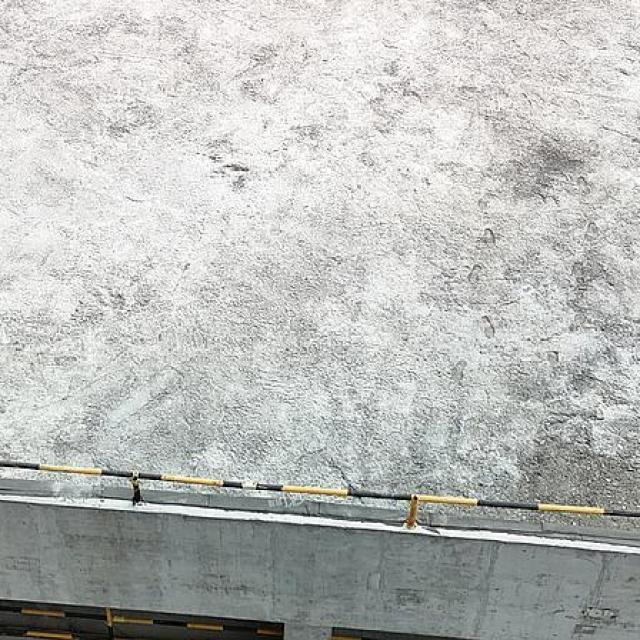edge_guardrail: (0, 458, 640, 526), (0, 603, 283, 640)
